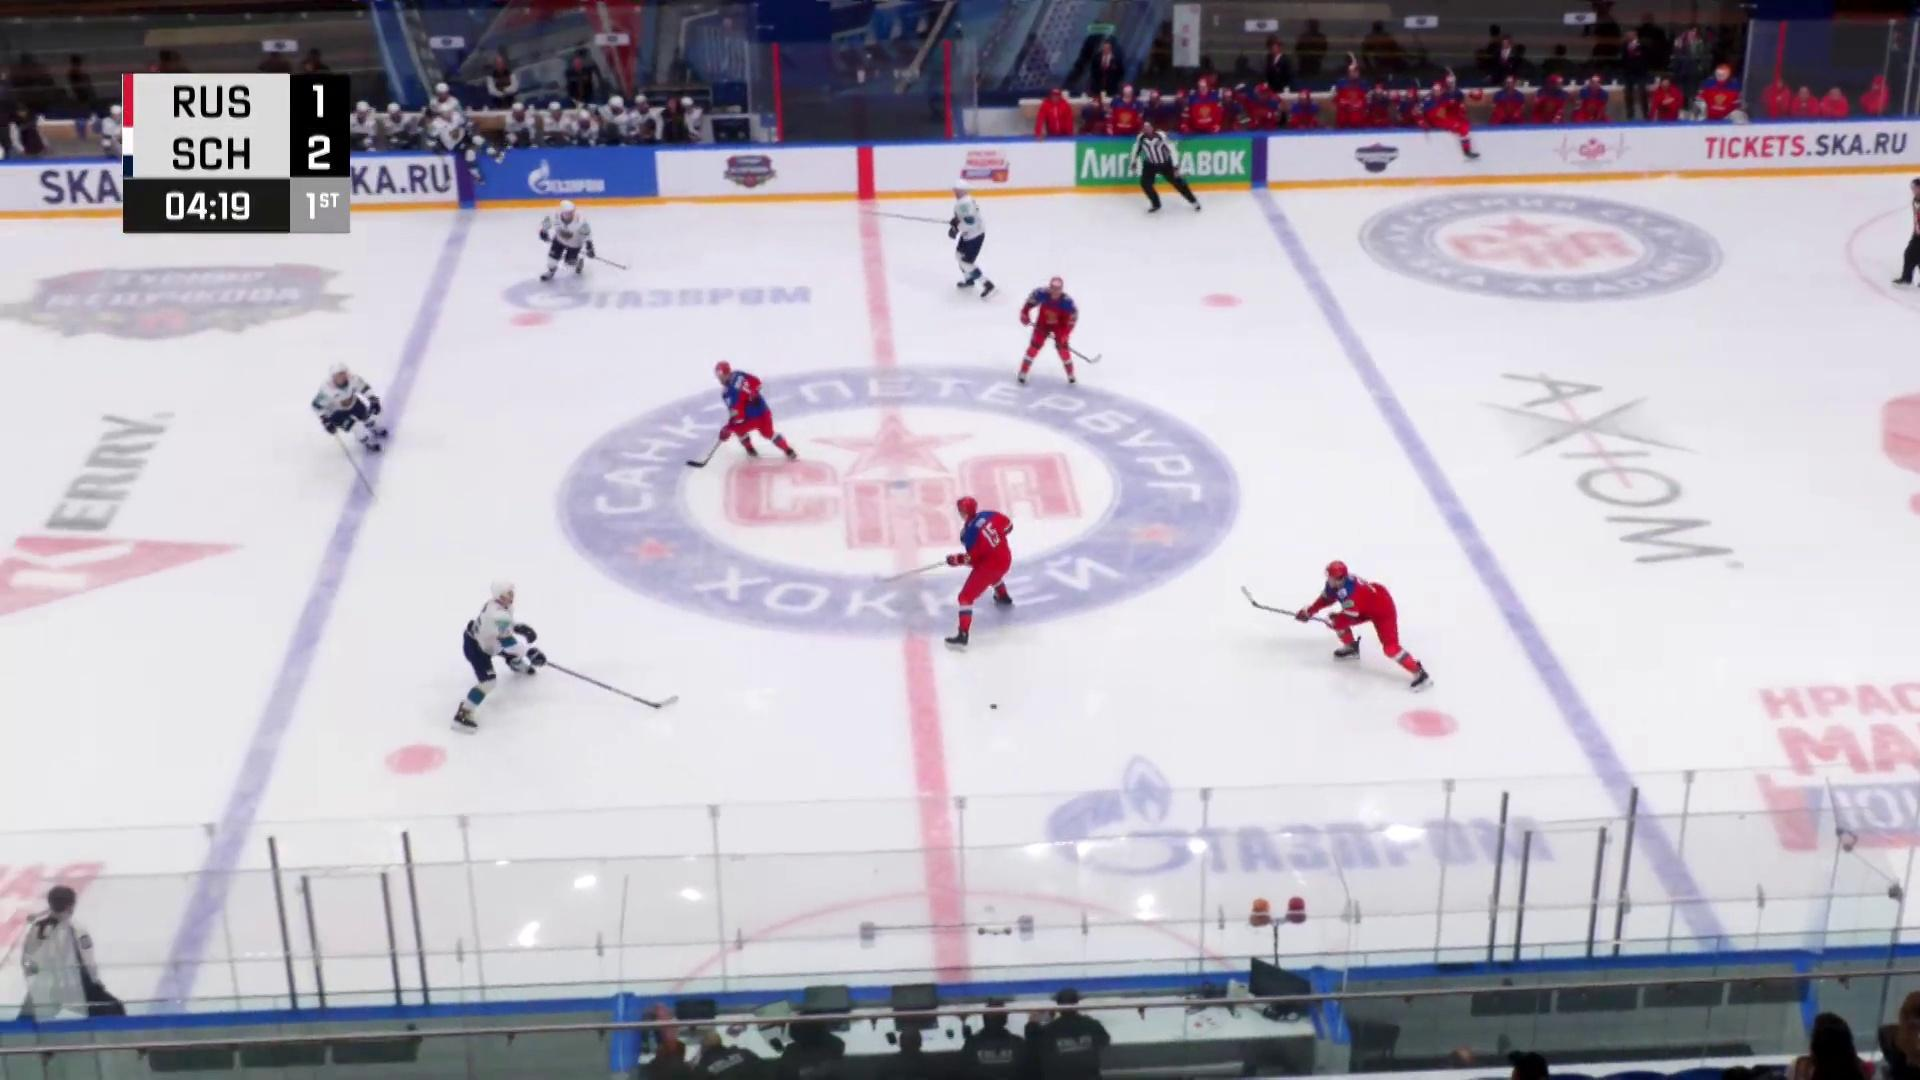ball: (989, 704, 999, 710)
